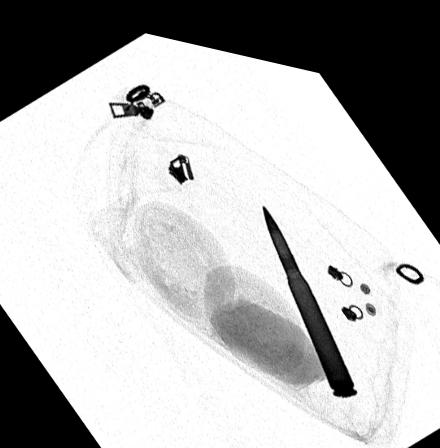Bullet: (259, 188, 359, 384)
